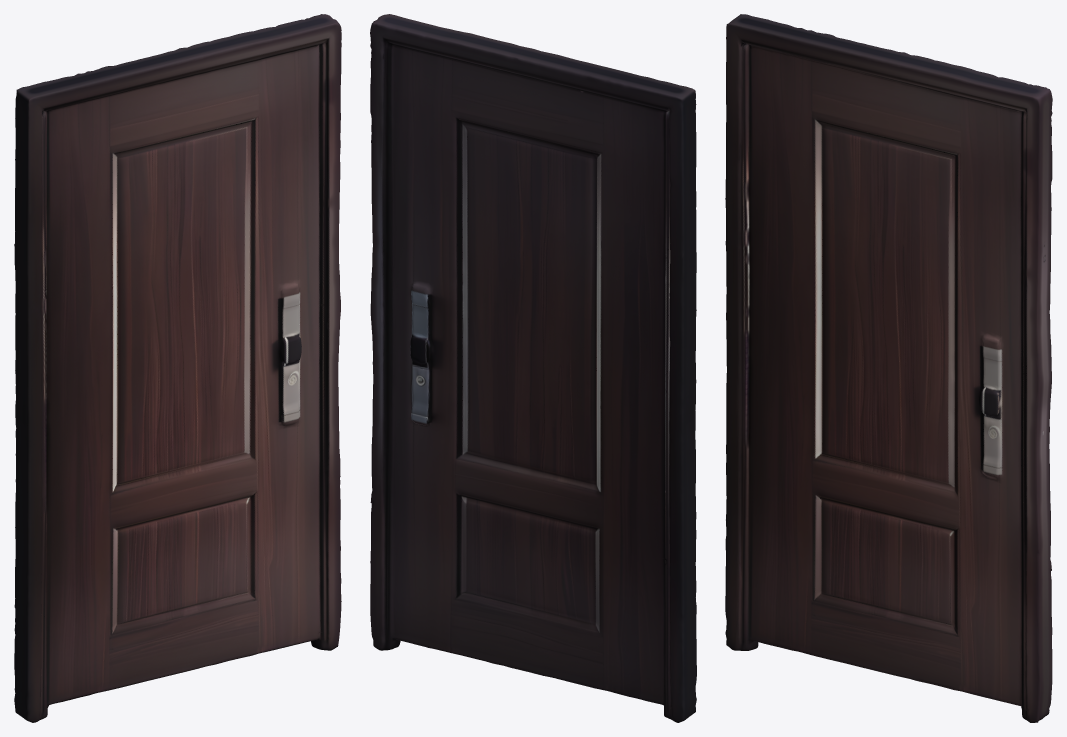
The model's file is 入户门 (2) 1.fbx.
3 renders of one model, left to right at view 1: azimuth 30°, elevation 25°; view 2: azimuth 150°, elevation 25°; view 3: azimuth 330°, elevation 25°, orthographic.
Parts seen in each view (by area): view 1: model; view 2: model; view 3: model.
Part boxes in pixels (x1,y1,x2,y2): model: (14, 14, 341, 722); model: (370, 14, 696, 722); model: (725, 14, 1052, 722).
Bounding box in the file's own units: 93.61 × 179 × 7.89.
Materials: 1 (1 with a texture image).
